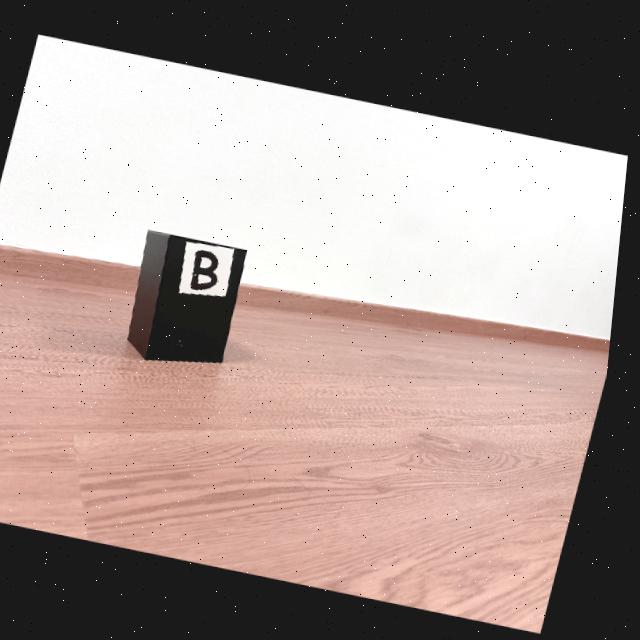B: (196, 248, 224, 289)
